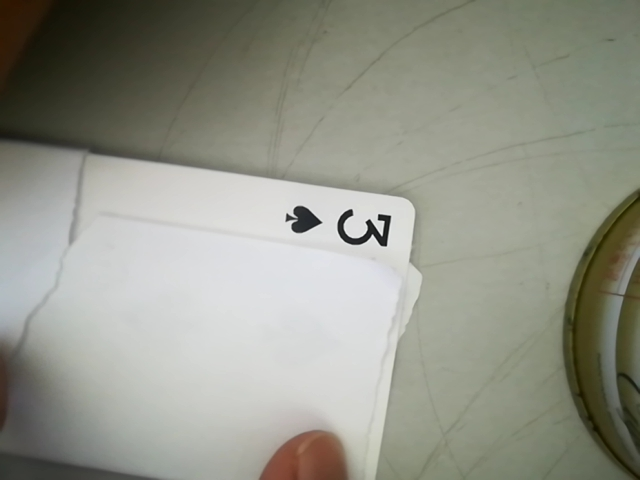ht 3: (273, 198, 411, 255)
